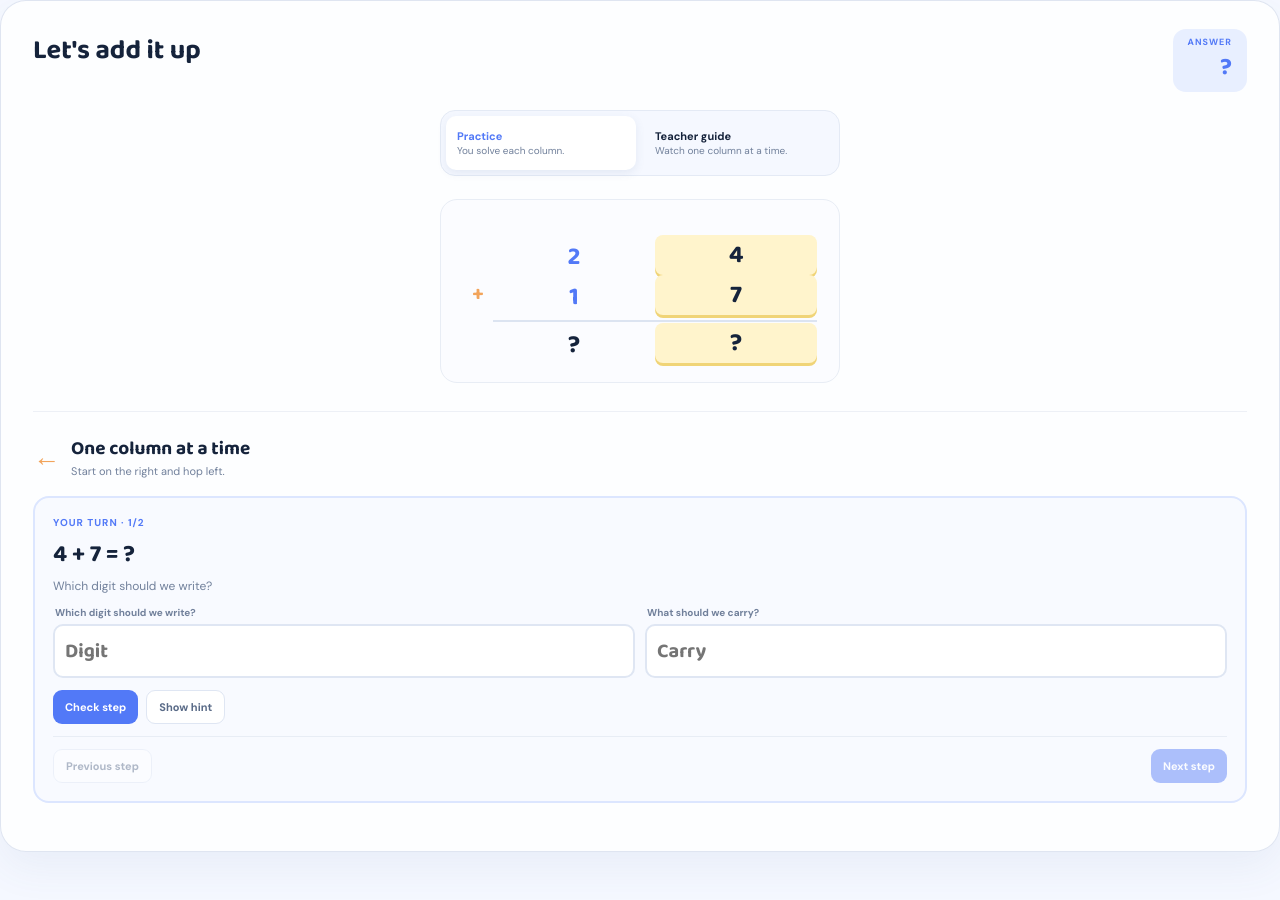
Scenario: ResultPanel guided flow › lets the learner watch the teacher guide without answer inputs
Click the button "Teacher guide Watch one column at a time.".
click(739, 143)  # box [644,116,834,170]
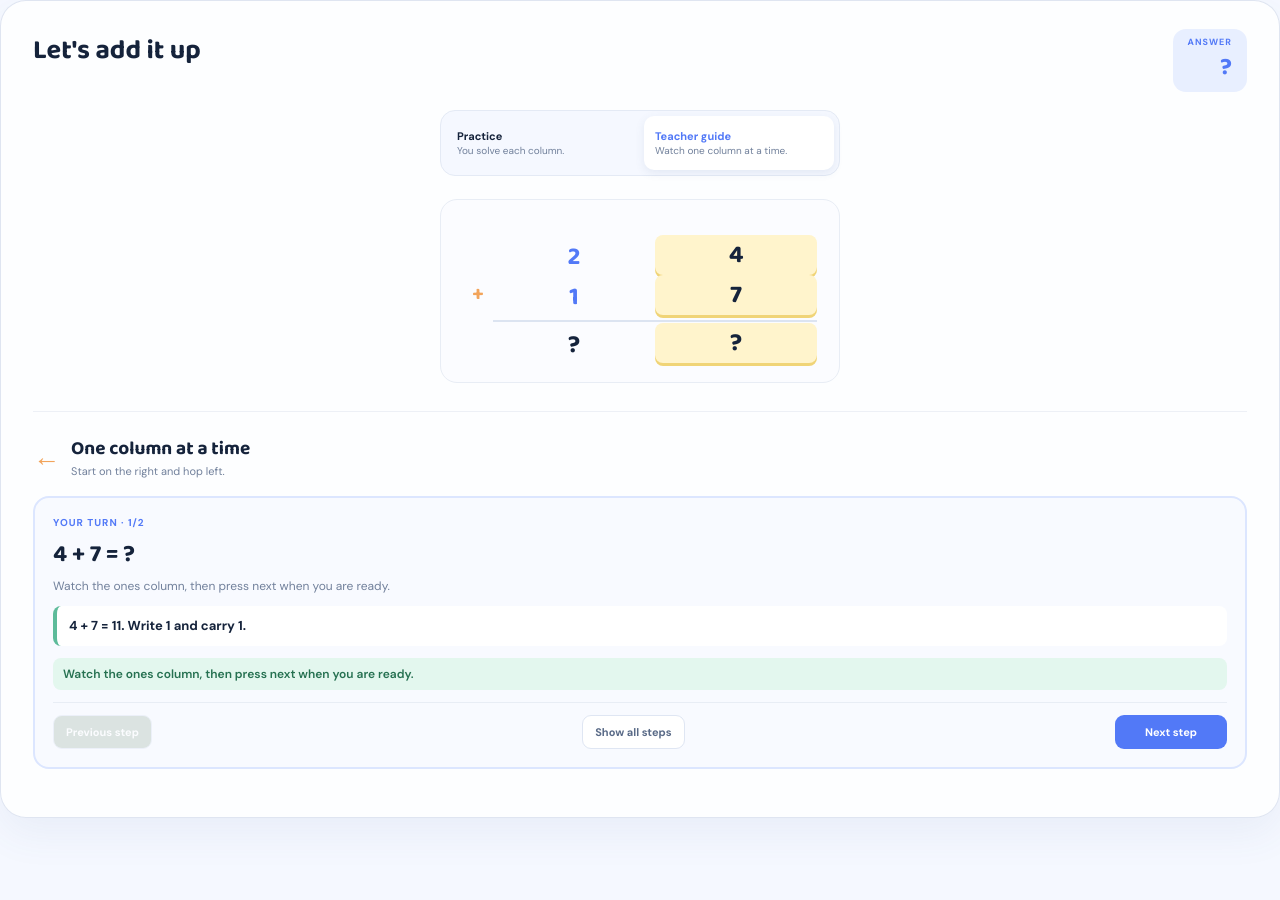
Result: the text labelled "Which digit should we write?" is gone
Click the button "Next step".
click(1171, 732)  # box [1115,714,1227,748]
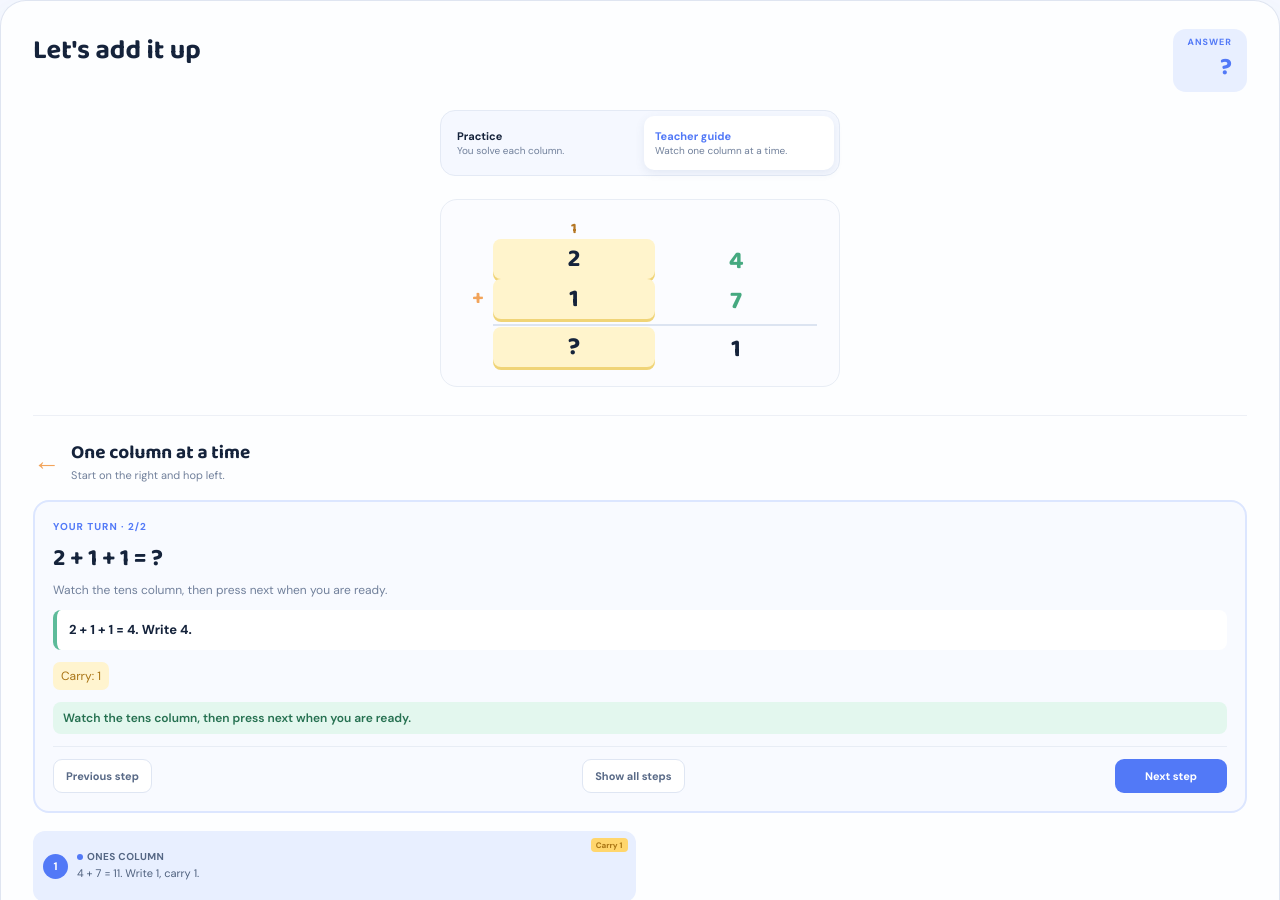
Result: the heading "2 + 1 + 1 = ?" is shown at [53,539,163,578]
